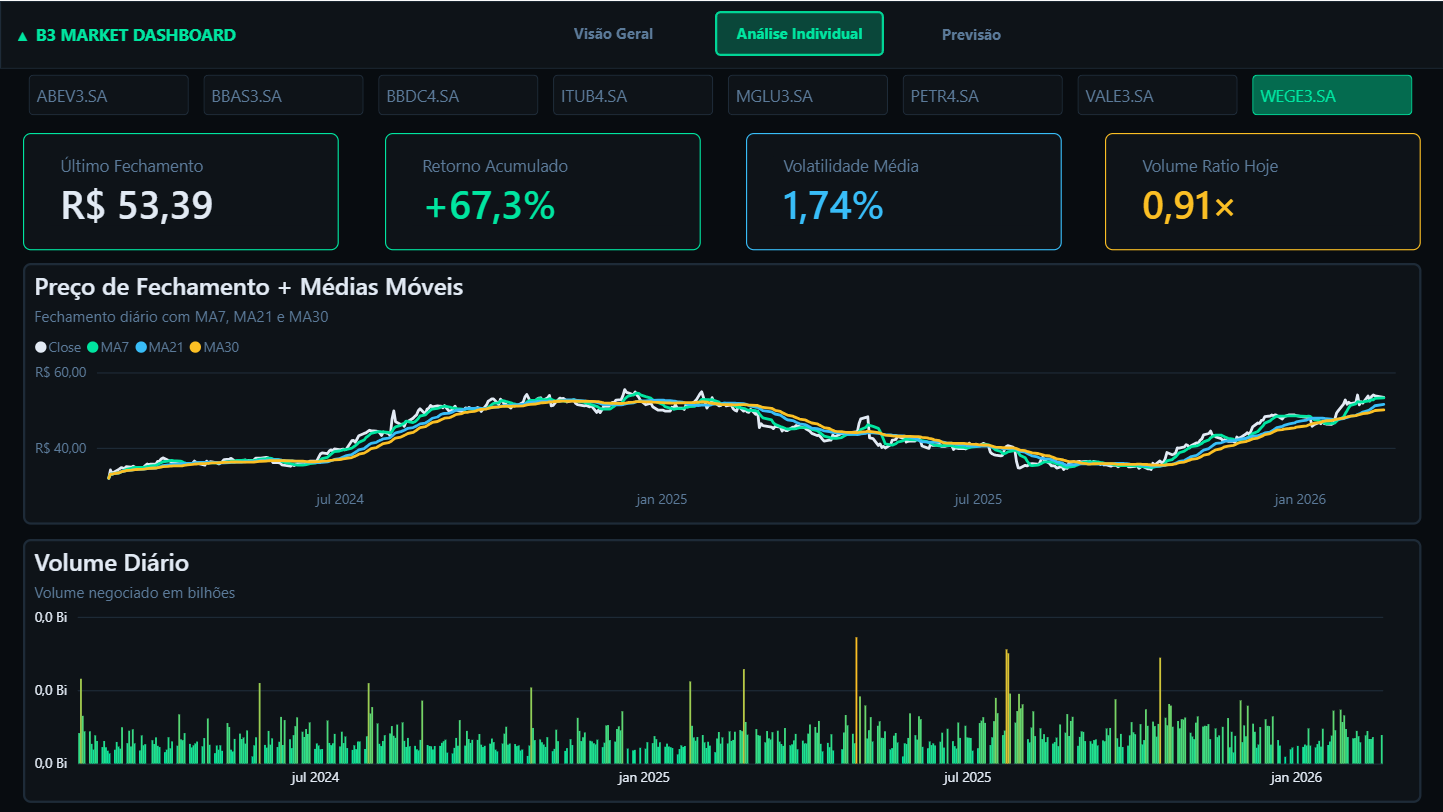

Layout of this report page (visuals, bound fields, positions):
{"tool":"powerbi","page":{"name":"Página 2","canvas":[1280,720],"ordinal":1},"visuals":[{"type":"lineChart","title":"Preço de Fechamento + Médias Móveis","fields":{"Y":["Avg(public stocks_features.close)","Avg(public stocks_features.ma_7)","Avg(public stocks_features.ma_21)","Avg(public stocks_features.ma_30)"],"Category":["public stocks_features.date.Variation.Hierarquia de datas.Ano","public stocks_features.date.Variation.Hierarquia de datas.Trimestre","public stocks_features.date.Variation.Hierarquia de datas.Mês","public stocks_features.date.Variation.Hierarquia de datas.Dia"]},"box":[20.4,232.3,1239.6,232.3],"z":0},{"type":"columnChart","title":"Volume Diário","fields":{"Category":["public stocks_features.date"],"Y":["Avg(public stocks_features.volume)"]},"box":[20.4,477,1239.6,234.1],"z":1000},{"type":"advancedSlicerVisual","fields":{"Values":["public stocks_features.ticker"]},"box":[20.4,60.3,1239.6,47],"z":2000},{"type":"shape","box":[0,0,1280.4,60.3],"z":3000},{"type":"textbox","box":[10.6,14.2,207.5,30.1],"z":4000},{"type":"actionButton","title":"Visão Geral","box":[493.9,8.9,100.2,39.9],"z":5000},{"type":"actionButton","title":"Visão Geral","box":[634,8.9,149.9,39.9],"z":6000},{"type":"actionButton","title":"Visão Geral","box":[807.8,9.8,107.3,39.9],"z":7000},{"type":"cardVisual","fields":{"Data":["public stocks_features.Último Close"]},"box":[20.4,117,280.2,103.7],"z":8000},{"type":"cardVisual","fields":{"Data":["public stocks_features.Último Retorno"]},"box":[341.4,117,280.2,103.7],"z":9000},{"type":"cardVisual","fields":{"Data":["Avg(public stocks_features.volatility_21d)"]},"box":[661.5,117,280.2,103.7],"z":10000},{"type":"cardVisual","fields":{"Data":["public stocks_features.Volume Ratio Hoje"]},"box":[979.8,117,280.2,103.7],"z":11000}]}

Visuals, with their boxes in screenshot pixels (x1, y1, x2, y2), scaled from the page's 1280x720 canvas onto the 1443x812 screenshot:
"Preço de Fechamento + Médias Móveis" lineChart: bbox=[23, 262, 1420, 524]
"Volume Diário" columnChart: bbox=[23, 538, 1420, 802]
advancedSlicerVisual - public stocks_features.ticker: bbox=[23, 68, 1420, 121]
shape: bbox=[0, 0, 1442, 68]
textbox: bbox=[12, 16, 246, 50]
"Visão Geral" actionButton: bbox=[557, 10, 670, 55]
"Visão Geral" actionButton: bbox=[715, 10, 884, 55]
"Visão Geral" actionButton: bbox=[911, 11, 1032, 56]
cardVisual - public stocks_features.Último Close: bbox=[23, 132, 339, 249]
cardVisual - public stocks_features.Último Retorno: bbox=[385, 132, 701, 249]
cardVisual - Avg(public stocks_features.volatility_21d): bbox=[746, 132, 1062, 249]
cardVisual - public stocks_features.Volume Ratio Hoje: bbox=[1105, 132, 1420, 249]
